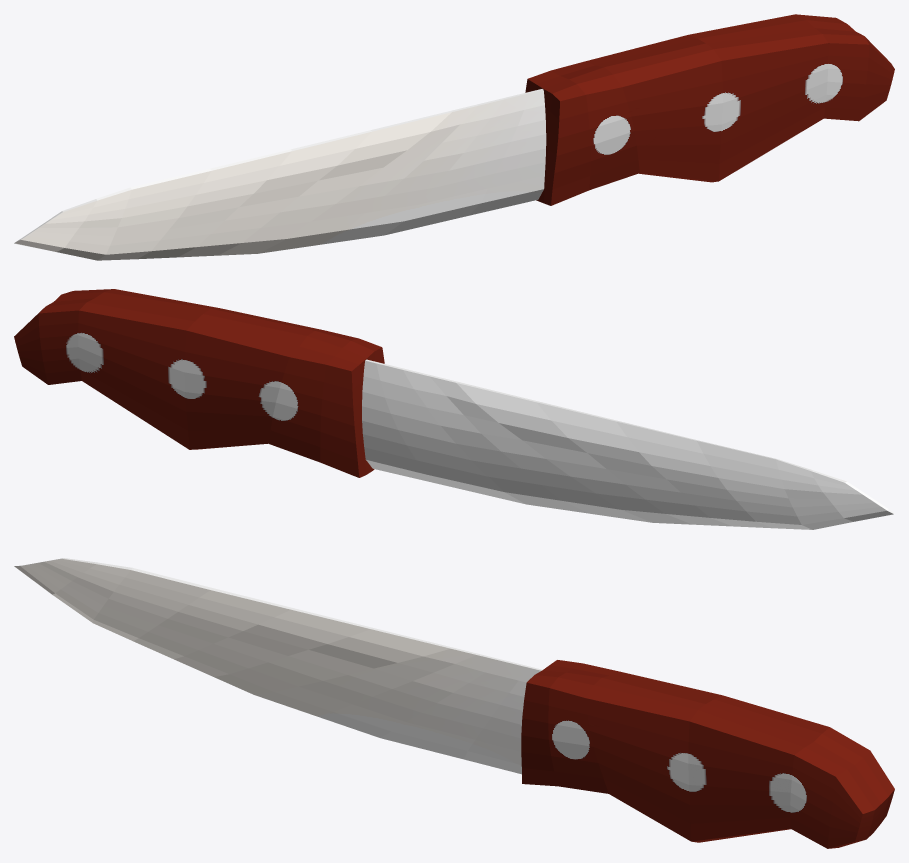
File: knife.fbx
3 renders of one model, top to bottom at view 1: azimuth 30°, elevation 25°; view 2: azimuth 150°, elevation 25°; view 3: azimuth 330°, elevation 25°, orthographic.
Visible parts, largest first — view 1: Куб, Куб.001; view 2: Куб, Куб.001; view 3: Куб.001, Куб.
Boxes of the visible parts, left/top/right/bottom form: Куб: left=14, top=89, right=546, bottom=260; Куб.001: left=525, top=14, right=894, bottom=205; Куб: left=362, top=359, right=894, bottom=529; Куб.001: left=14, top=289, right=384, bottom=477; Куб.001: left=521, top=660, right=894, bottom=848; Куб: left=14, top=558, right=542, bottom=774.
Bounding box in the file's own units: 533 × 80.05 × 43.93.
